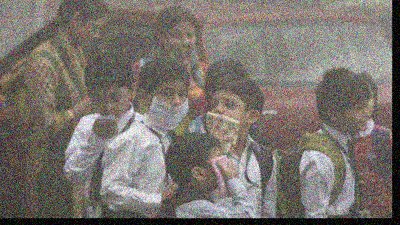mask_weared_incorrect: (150, 85, 187, 131), (165, 27, 198, 58)
with_mask: (203, 153, 228, 194)
without_mask: (209, 96, 244, 134), (90, 89, 130, 120), (342, 98, 370, 132), (81, 19, 105, 49)
